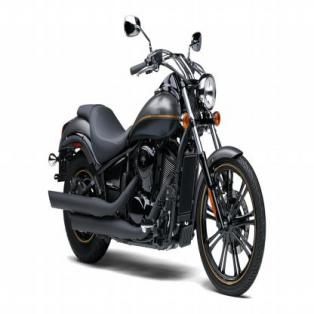Motocicleta: (43, 2, 270, 297)
